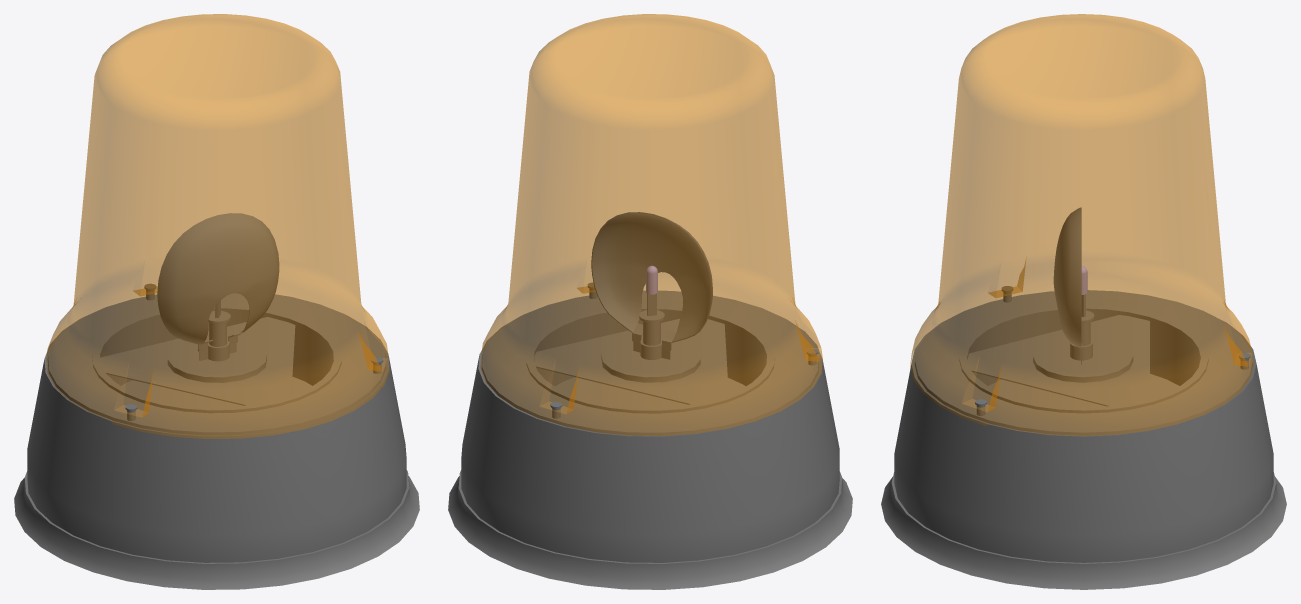
The model's file is Flasher2.fbx.
The picture shows the model from 3 angles, left to right: view 1: azimuth 30°, elevation 25°; view 2: azimuth 150°, elevation 25°; view 3: azimuth 270°, elevation 25°; orthographic projection.
Parts seen in each view (by area): view 1: Case, FlasherBase, Flasher; view 2: Case, FlasherBase, Flasher; view 3: Case, FlasherBase, Flasher.
Part boxes in pixels (x1,y1,x2,y2): Case: (46,14,389,438); FlasherBase: (14,284,419,589); Flasher: (157,213,279,361); Case: (480,14,822,435); FlasherBase: (448,282,852,589); Flasher: (591,212,712,359); Case: (910,14,1253,435); FlasherBase: (881,286,1286,589); Flasher: (1053,207,1094,364).
Bounding box in the file's own units: 350 × 425 × 350.
